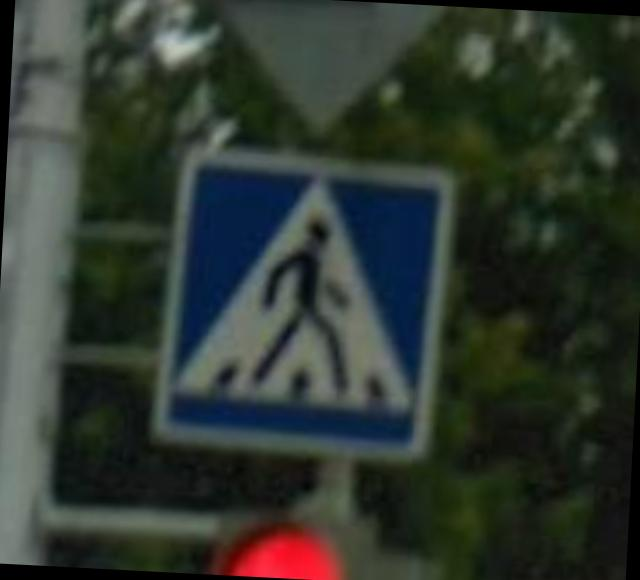crosswalk-sign: (147, 140, 458, 470)
